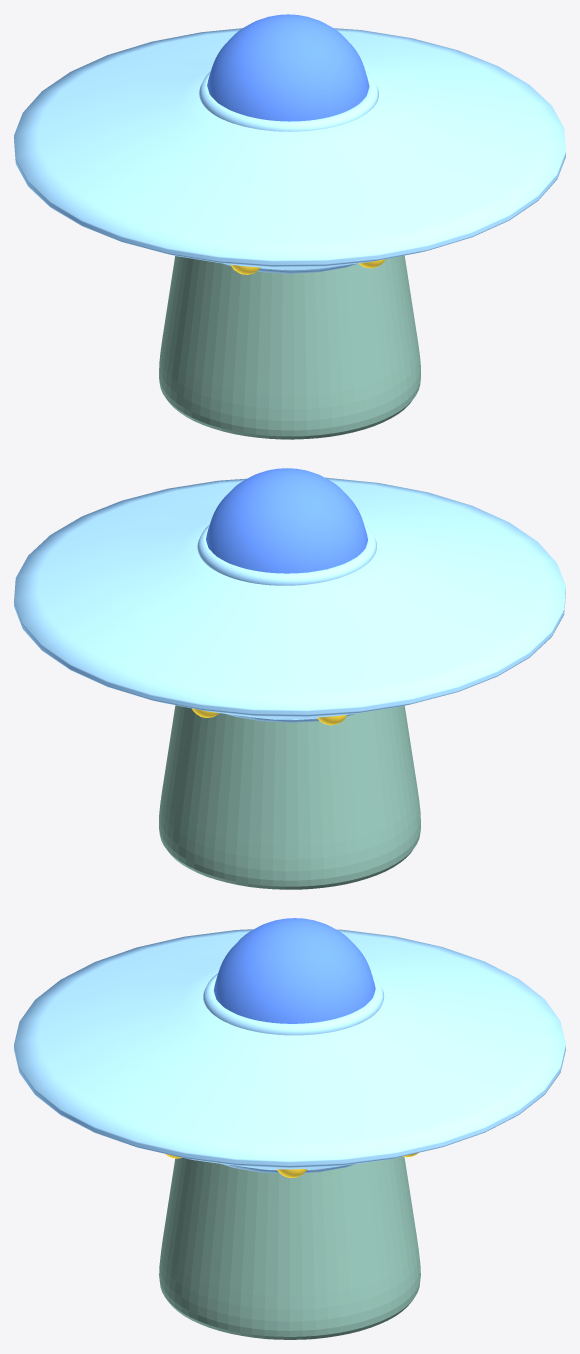
Rendered from UFO.glb.
3 renders of one model, top to bottom at view 1: azimuth 30°, elevation 25°; view 2: azimuth 150°, elevation 25°; view 3: azimuth 270°, elevation 25°, orthographic.
Visible parts, largest first — view 1: saucer, light, glass, ringtop; view 2: saucer, light, glass, ringtop; view 3: saucer, light, glass, ringtop.
Boxes of the visible parts, x1=… form: saucer: x1=14, y1=28, x2=565, y2=269; light: x1=159, y1=255, x2=420, y2=439; glass: x1=207, y1=14, x2=369, y2=121; ringtop: x1=199, y1=71, x2=378, y2=131; saucer: x1=14, y1=477, x2=565, y2=719; light: x1=159, y1=705, x2=420, y2=889; glass: x1=206, y1=468, x2=367, y2=573; ringtop: x1=197, y1=524, x2=376, y2=585; saucer: x1=14, y1=929, x2=565, y2=1169; light: x1=159, y1=1156, x2=420, y2=1339; glass: x1=213, y1=918, x2=375, y2=1023; ringtop: x1=203, y1=973, x2=384, y2=1035.
Size of the model in its own units: 1.67 by 1.22 by 1.67.
